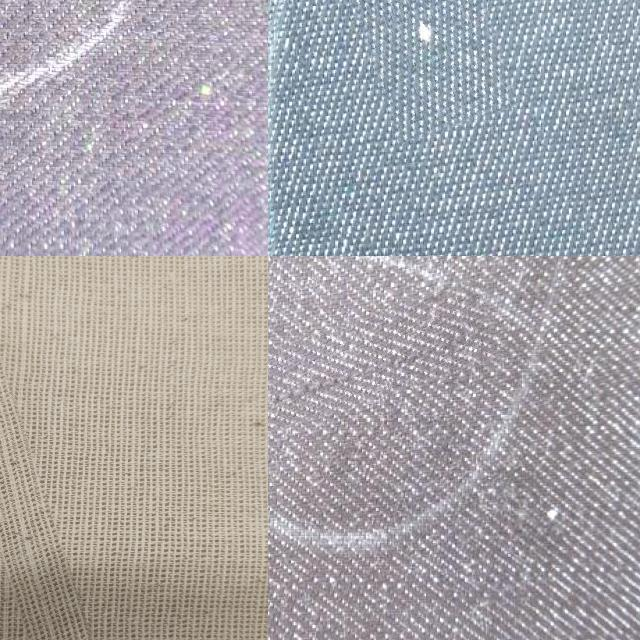Thread_other: (0, 256, 82, 640), (268, 303, 500, 435), (353, 0, 505, 137)
